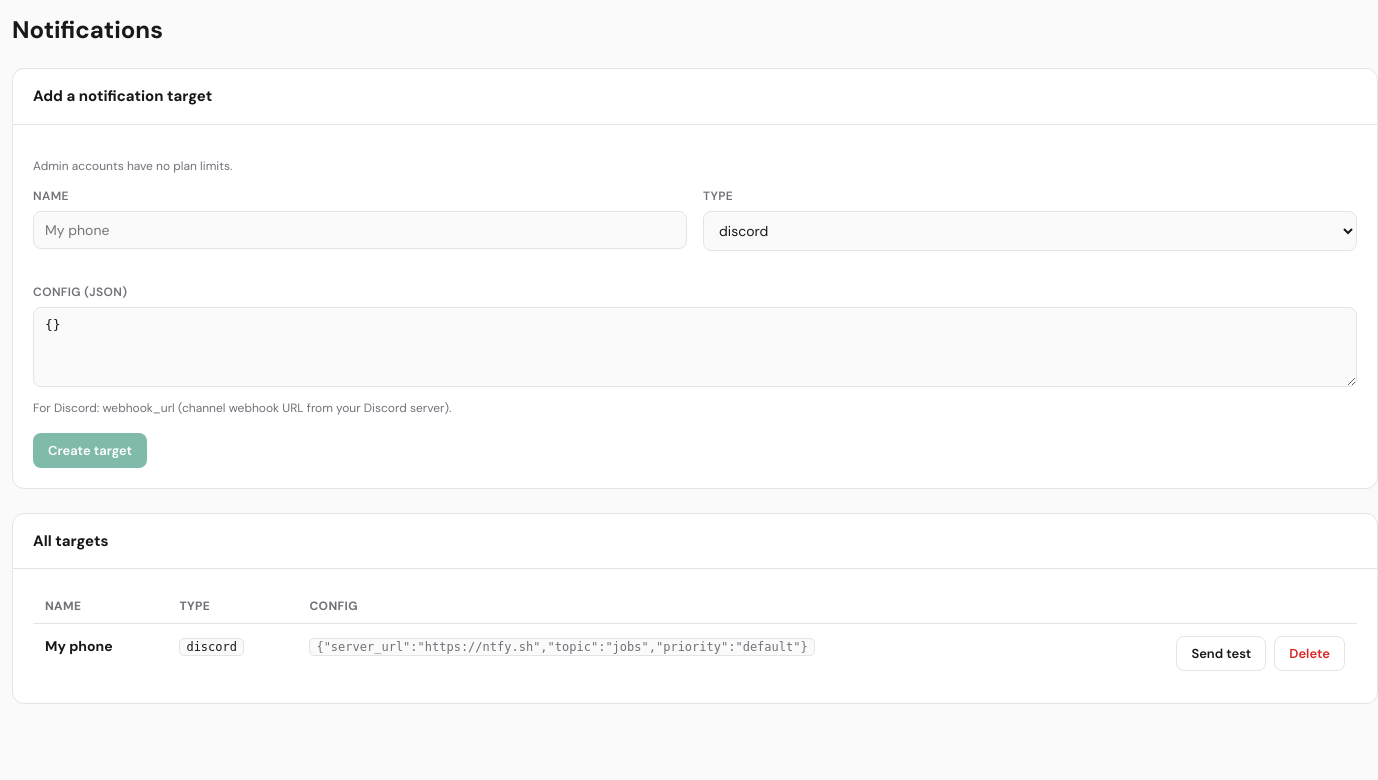
TargetsPage branch coverage › shows the discord-specific success notice on a sent test
Expected: the text "My phone" is shown, [45,637,113,655]
What coordinates should you click on to do the following:
click the button "Send test"
I would click on:
 (1221, 654)
Its box is [1176,636,1266,671].
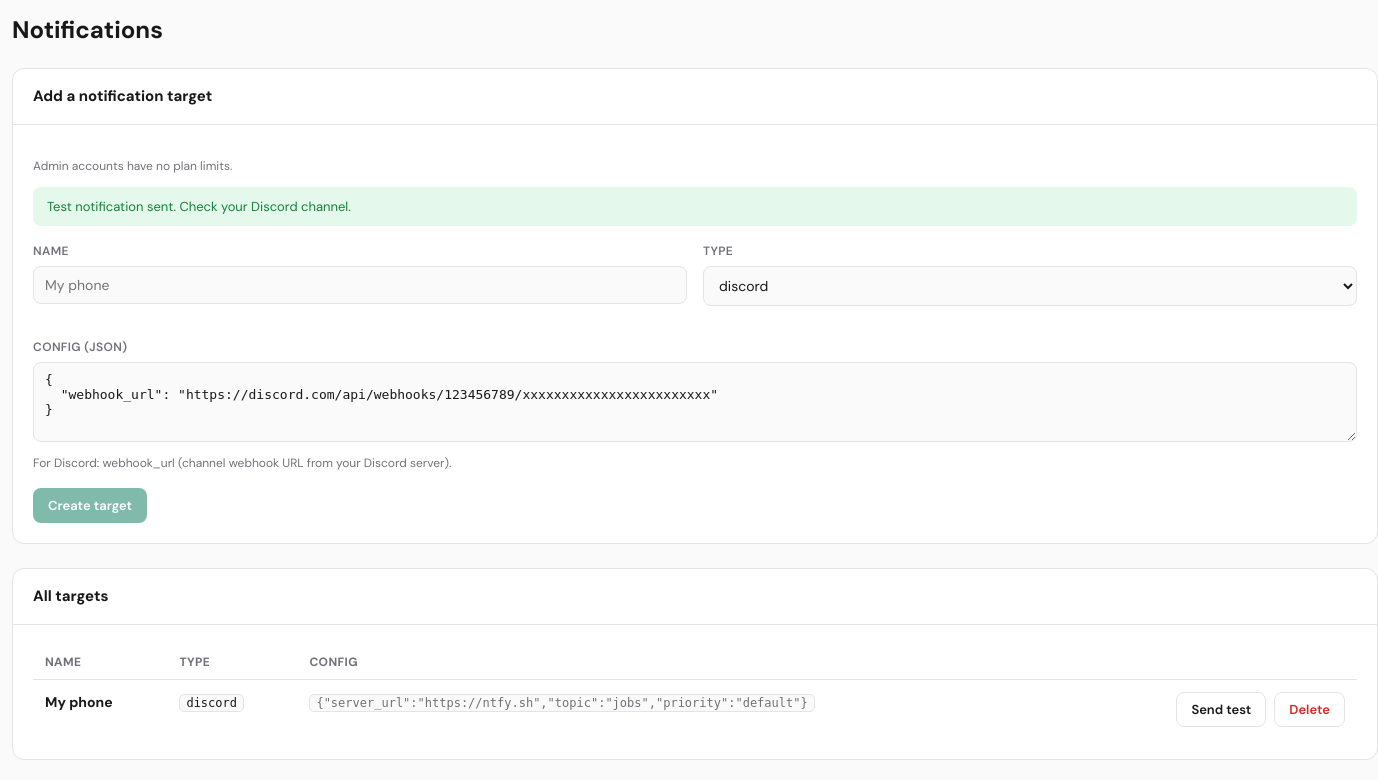
Now the text "Test notification sent. Check your Discord channel." is shown, box [33,186,1357,226]
